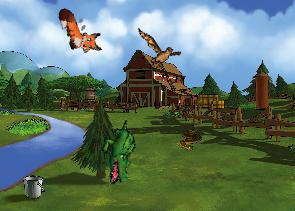crocodile: (94, 119, 145, 186)
eagle: (131, 28, 184, 72)
fox: (55, 0, 105, 60)
